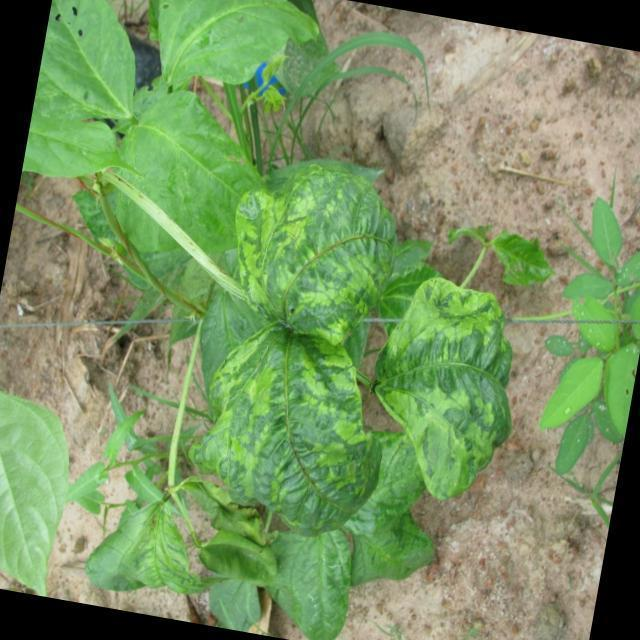Mosaic Virus: (174, 310, 393, 530), (223, 136, 410, 334), (367, 284, 536, 486)
